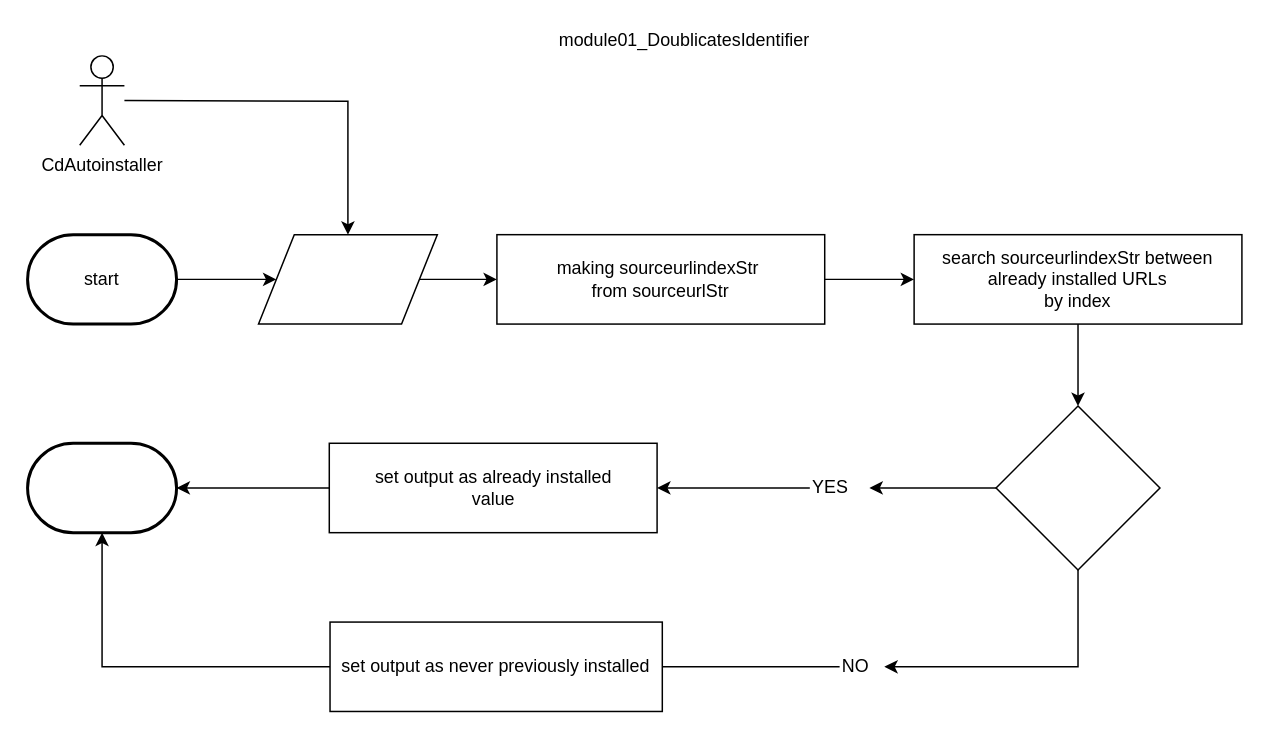
Some shapes in this 1268 by 738 pixel diagram are drawn without their labels. Each missing label, with the centre of its shape:
finish: pixel 101 487
if found sourceurlindexStr already installed: pixel 1077 487
sourceurlStr: pixel 347 278
